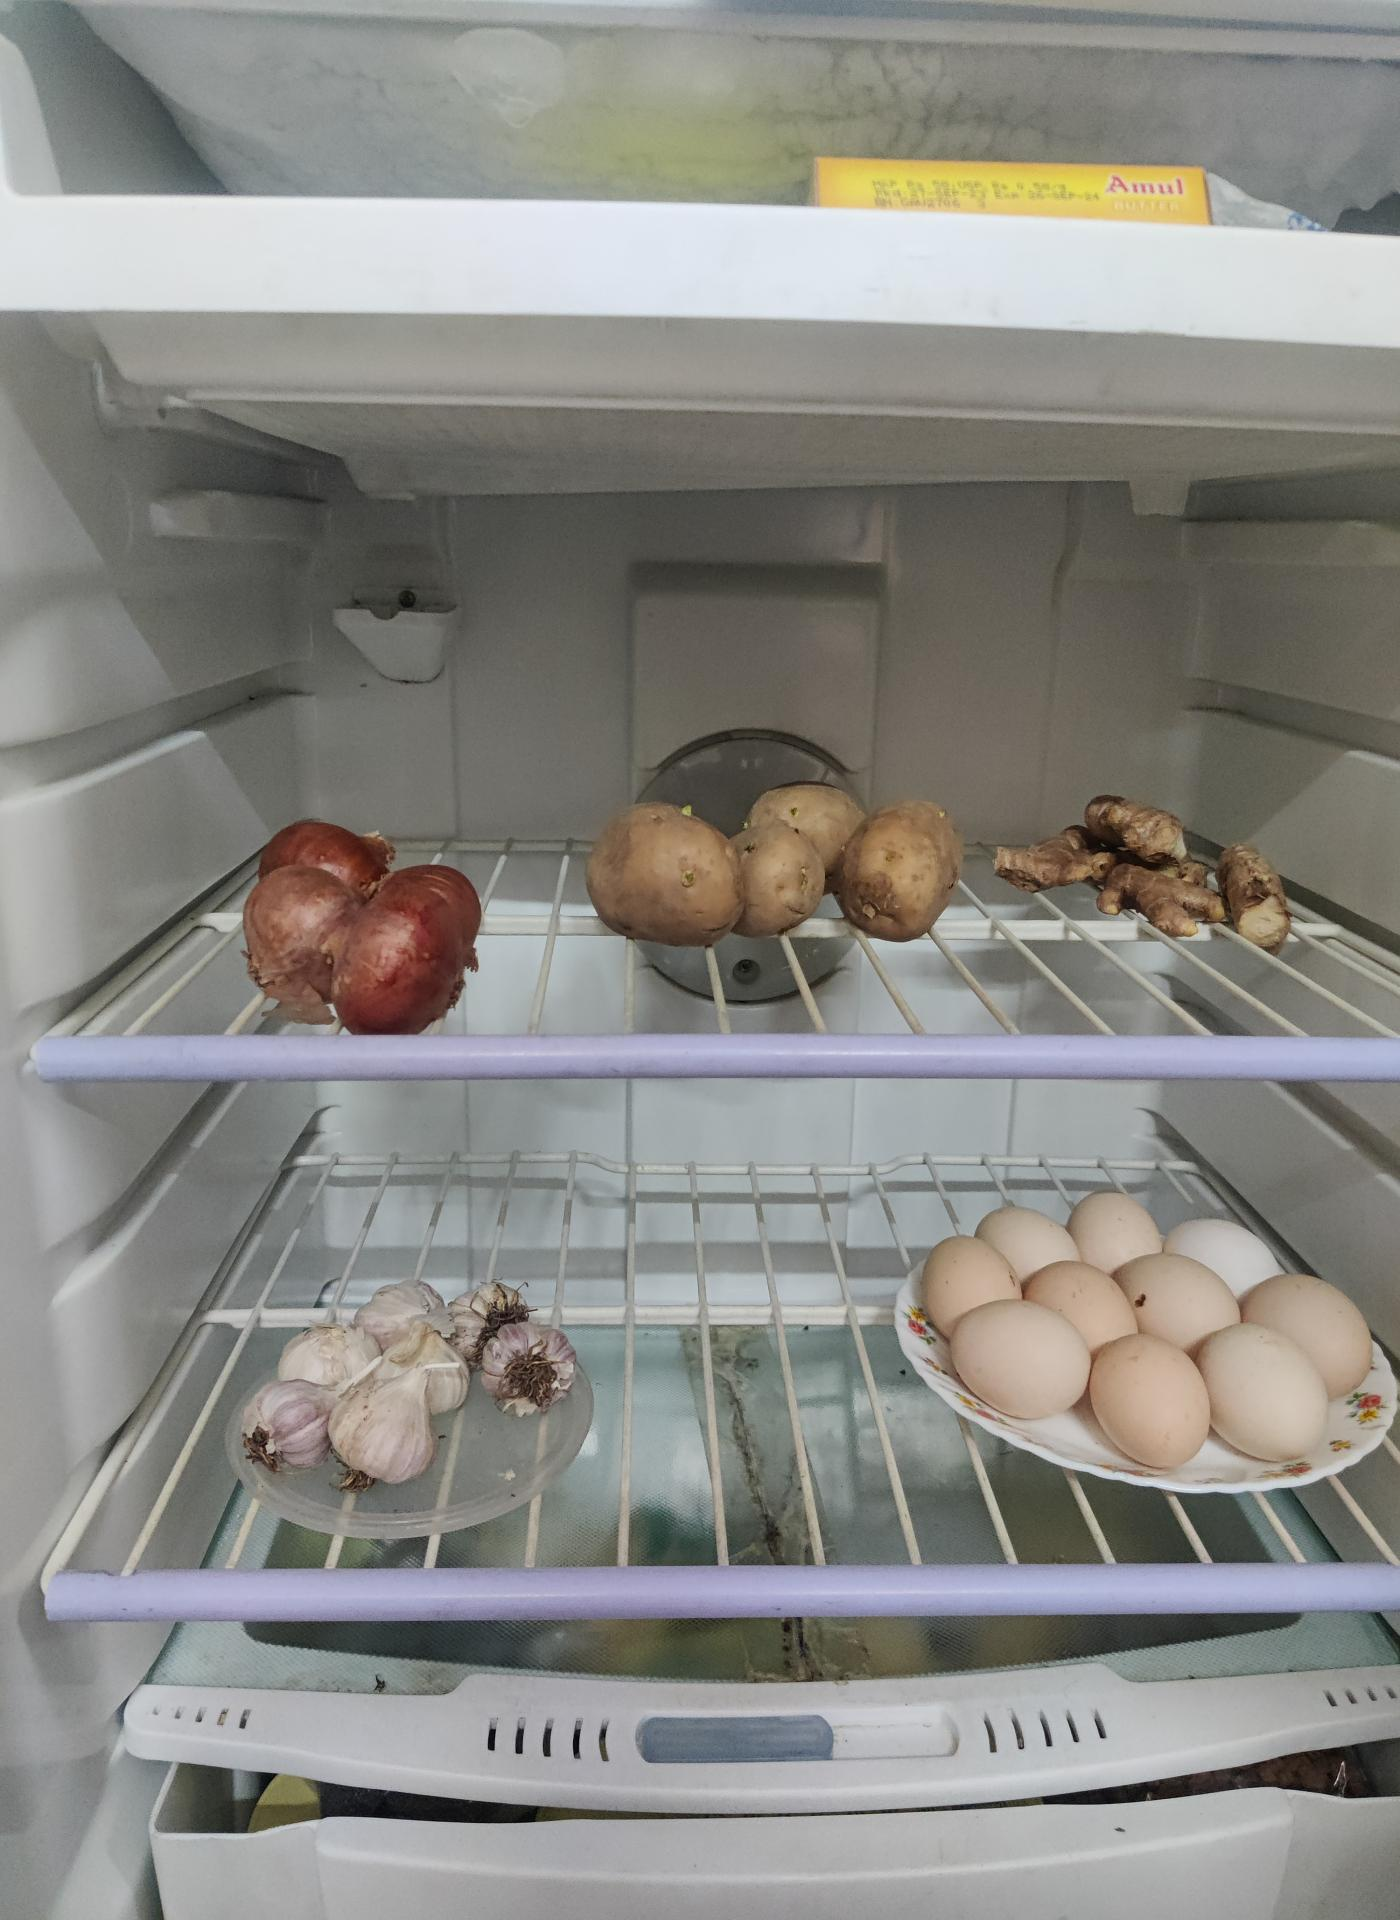egg: (927, 1188, 1384, 1464)
garlic: (240, 1285, 568, 1491)
ginger: (988, 795, 1297, 936)
onion: (245, 814, 486, 1027)
potato: (590, 783, 969, 951)
